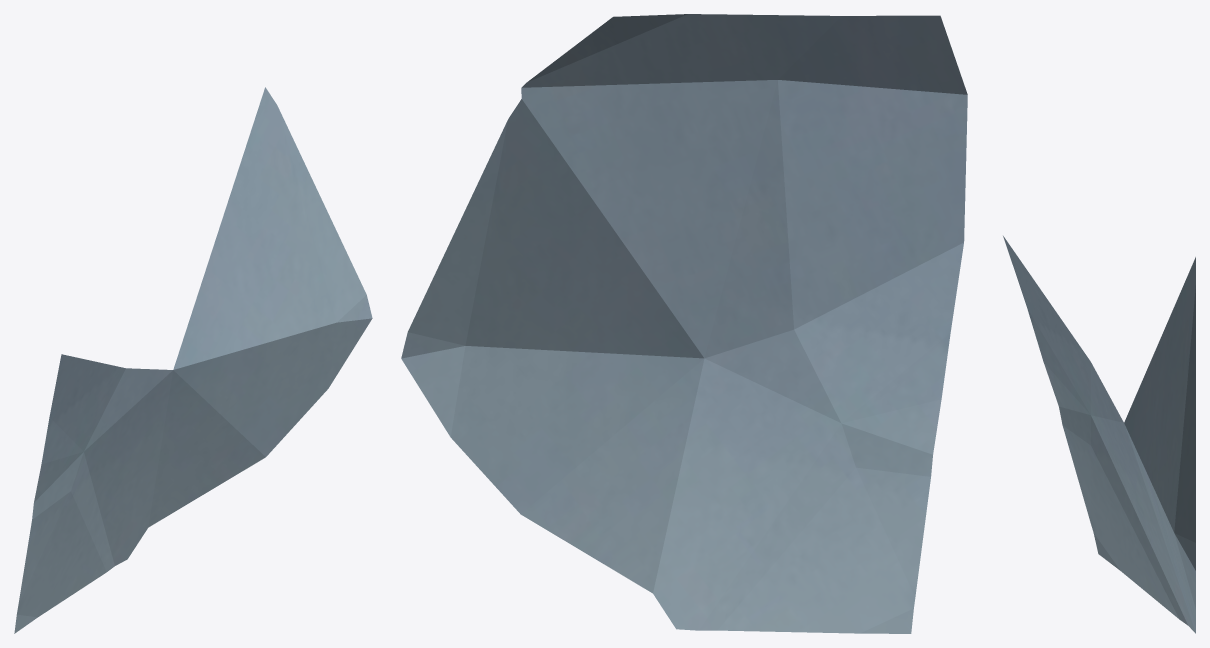
The picture shows the model from 3 angles, left to right: view 1: azimuth 30°, elevation 25°; view 2: azimuth 150°, elevation 25°; view 3: azimuth 270°, elevation 25°; orthographic projection. The views are drawn at different scales.
Bounding box in the file's own units: 0.6695 × 0.8373 × 0.2809.
Materials: 2 (2 with a texture image).
